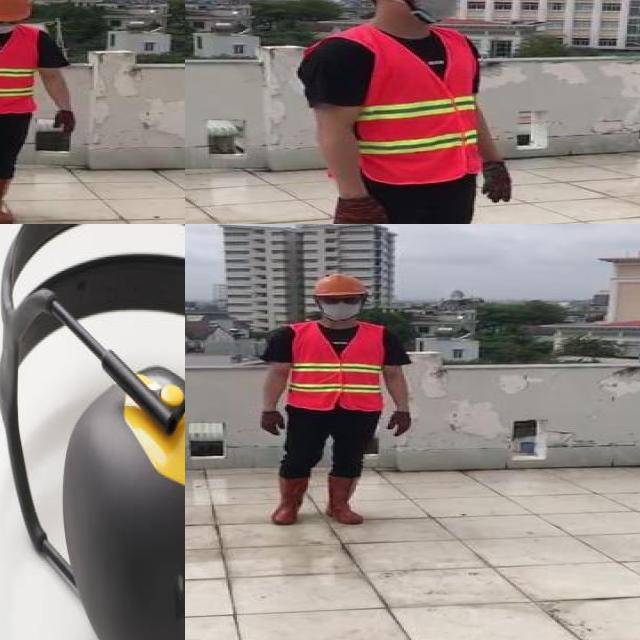Ear-protection: (0, 224, 185, 640)
boots: (328, 475, 367, 524), (272, 477, 306, 528), (0, 177, 16, 224)
face_mask: (315, 294, 365, 320), (408, 0, 470, 20), (0, 16, 20, 34)
glasses: (318, 294, 364, 305)
hand_glove: (331, 199, 390, 224), (481, 161, 515, 203), (384, 410, 414, 436), (258, 410, 287, 436), (52, 110, 78, 136)
head_helmet: (252, 274, 419, 522), (306, 274, 370, 296), (0, 0, 32, 22)
person: (288, 0, 515, 224), (0, 0, 89, 224)
vest: (348, 30, 481, 185), (286, 321, 382, 414), (0, 25, 33, 114)
